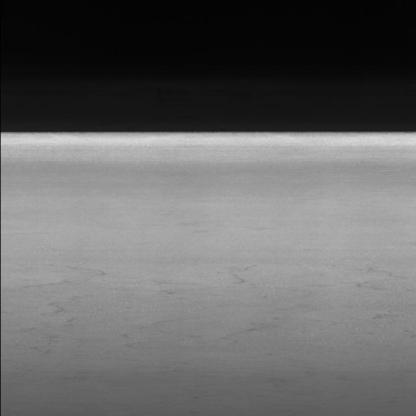silk_spot: (28, 261, 392, 368)
